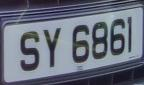1: (125, 12, 137, 56)
6: (70, 20, 91, 66), (106, 17, 127, 59)
8: (89, 20, 110, 61)
S: (17, 27, 43, 78)
Y: (40, 25, 65, 71)
